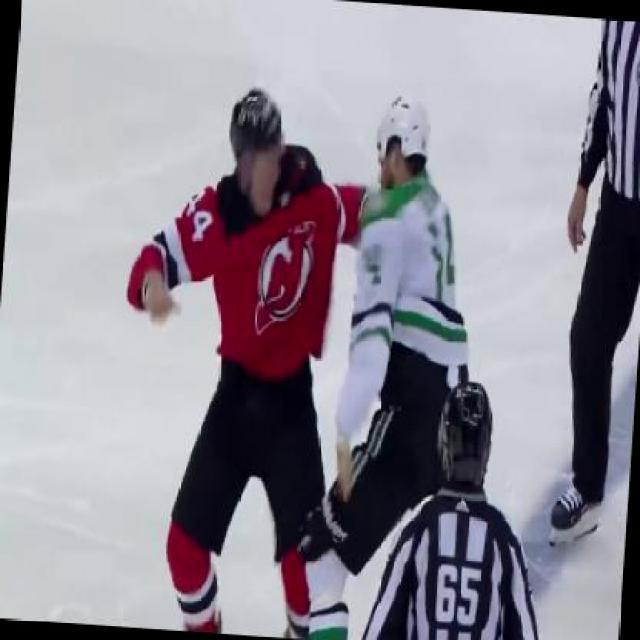fight: (113, 70, 492, 530)
